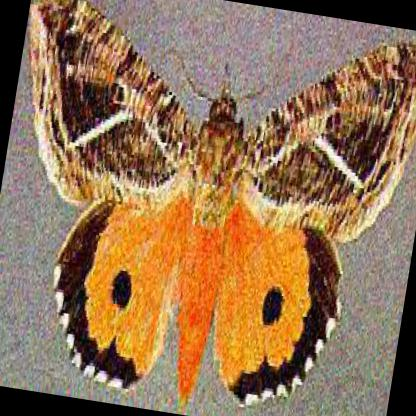fruit sucking moth: (29, 0, 416, 412)
